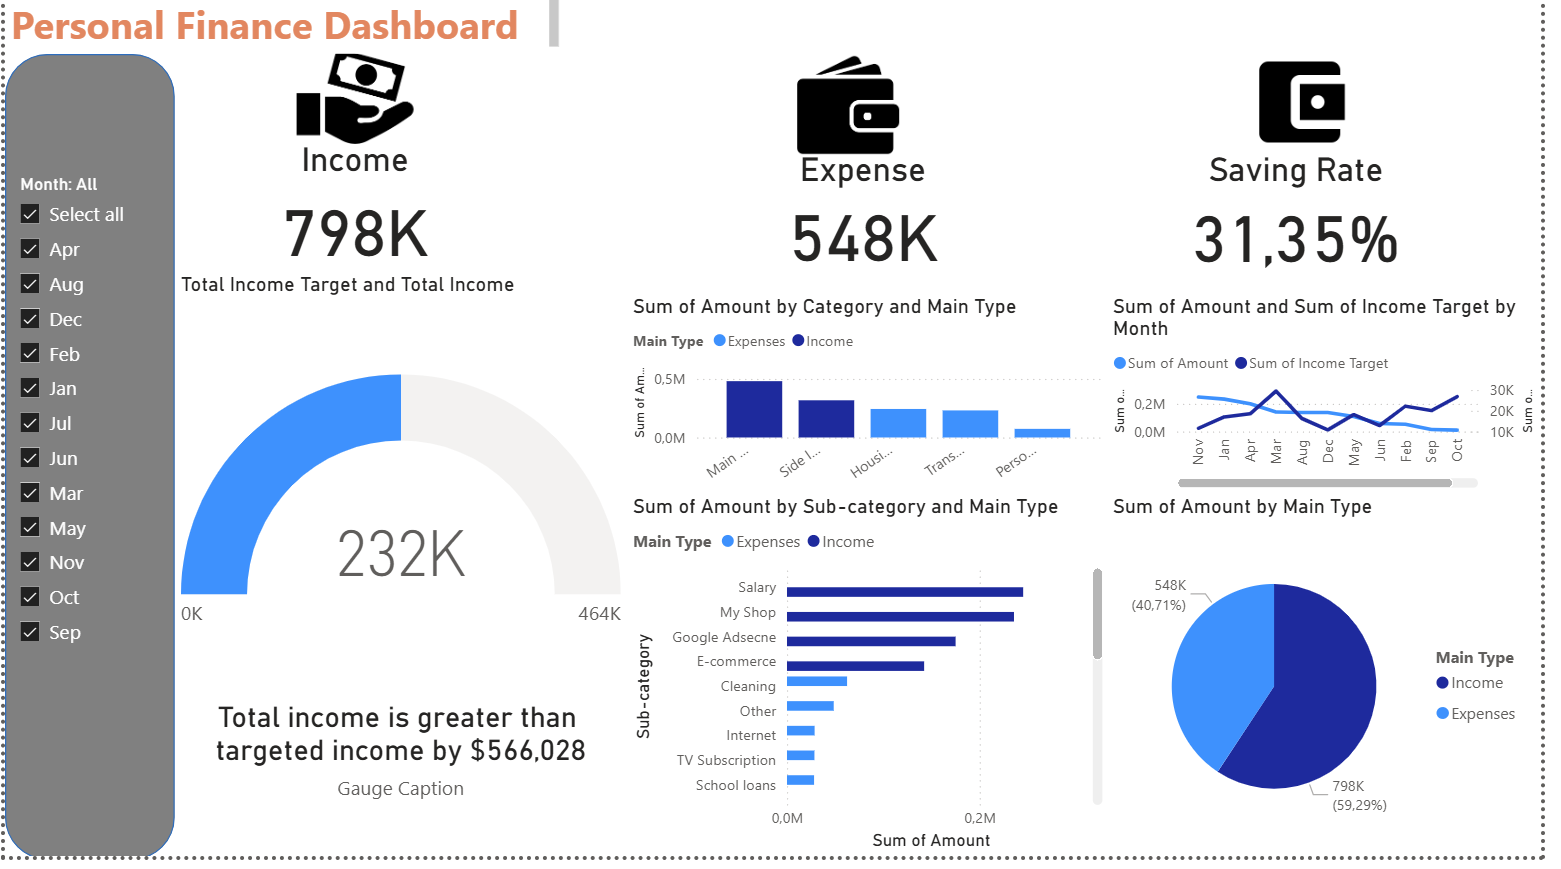

The page's visual inventory and layout, read from the dashboard file:
{"tool":"powerbi","page":{"name":"Page 1","canvas":[1280,720],"ordinal":0},"visuals":[{"type":"card","title":"Income","fields":{"Values":["Income Goal.Total Income"]},"box":[171.7,123.3,240,110],"z":0},{"type":"image","box":[220,41.7,143.3,90],"z":1000},{"type":"card","title":"Saving Rate","fields":{"Values":["Income Goal.Saving Rate"]},"box":[951.7,131.7,248.3,103.3],"z":2000},{"type":"card","title":"Expense","fields":{"Values":["Income Goal.Total Expenses"]},"box":[586.7,131.7,256.7,101.7],"z":3000},{"type":"image","box":[601.7,46.7,201.7,95],"z":4000},{"type":"image","box":[975,41.7,208.3,100],"z":5000},{"type":"textbox","box":[0,0,466.7,51.7],"z":6000},{"type":"shape","box":[0,51.7,141.7,671.7],"z":7000},{"type":"gauge","fields":{"Y":["Income Goal.Total Income Target"],"TargetValue":["Income Goal.Total Income"]},"box":[141.7,233.3,376.7,366.7],"z":8000},{"type":"card","fields":{"Values":["Income Goal.Gauge Caption"]},"box":[141.7,535,376.7,185],"z":9000},{"type":"columnChart","fields":{"Category":["Main Data.Category"],"Y":["Sum(Main Data.Amount)"],"Series":["Main Data.Main Type"]},"box":[518.3,251.7,400,166.7],"z":10000},{"type":"clusteredBarChart","fields":{"Category":["Main Data.Sub-category"],"Y":["Sum(Main Data.Amount)"],"Series":["Main Data.Main Type"]},"box":[518.3,418.3,401.7,301.7],"z":11000},{"type":"lineChart","fields":{"Category":["Main Data.Month"],"Y":["Sum(Main Data.Amount)"],"Y2":["Sum(Income Goal.Income Target)"]},"box":[918.3,251.7,361.7,166.7],"z":12000},{"type":"slicer","fields":{"Values":["Income Goal.Month"]},"box":[0,146.7,141.7,481.7],"z":13000},{"type":"pieChart","fields":{"Category":["Main Data.Main Type"],"Y":["Sum(Main Data.Amount)"]},"box":[918.3,418.3,361.7,301.7],"z":14000}]}

Visuals, with their boxes in screenshot pixels (x1, y1, x2, y2), scaled from the page's 1280x720 canvas onto the 1561x869 screenshot:
"Income" card: x1=209, y1=149, x2=502, y2=282
image: x1=268, y1=50, x2=443, y2=159
"Saving Rate" card: x1=1161, y1=159, x2=1463, y2=284
"Expense" card: x1=715, y1=159, x2=1029, y2=282
image: x1=734, y1=56, x2=980, y2=171
image: x1=1189, y1=50, x2=1443, y2=171
textbox: x1=0, y1=0, x2=569, y2=62
shape: x1=0, y1=62, x2=173, y2=868
gauge - Income Goal.Total Income Target x Income Goal.Total Income: x1=173, y1=282, x2=632, y2=724
card - Income Goal.Gauge Caption: x1=173, y1=646, x2=632, y2=868
columnChart - Main Data.Category x Sum(Main Data.Amount): x1=632, y1=304, x2=1120, y2=505
clusteredBarChart - Main Data.Sub-category x Sum(Main Data.Amount): x1=632, y1=505, x2=1122, y2=868
lineChart - Main Data.Month x Sum(Main Data.Amount): x1=1120, y1=304, x2=1560, y2=505
slicer - Income Goal.Month: x1=0, y1=177, x2=173, y2=758
pieChart - Main Data.Main Type x Sum(Main Data.Amount): x1=1120, y1=505, x2=1560, y2=868
